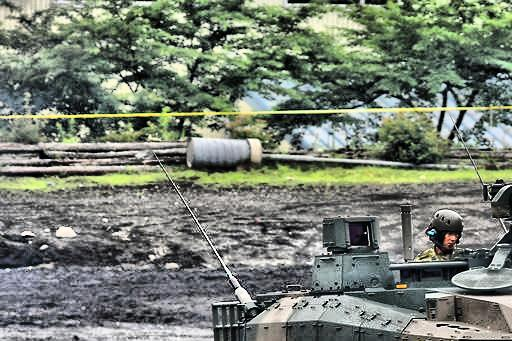tanks: (215, 184, 512, 341)
